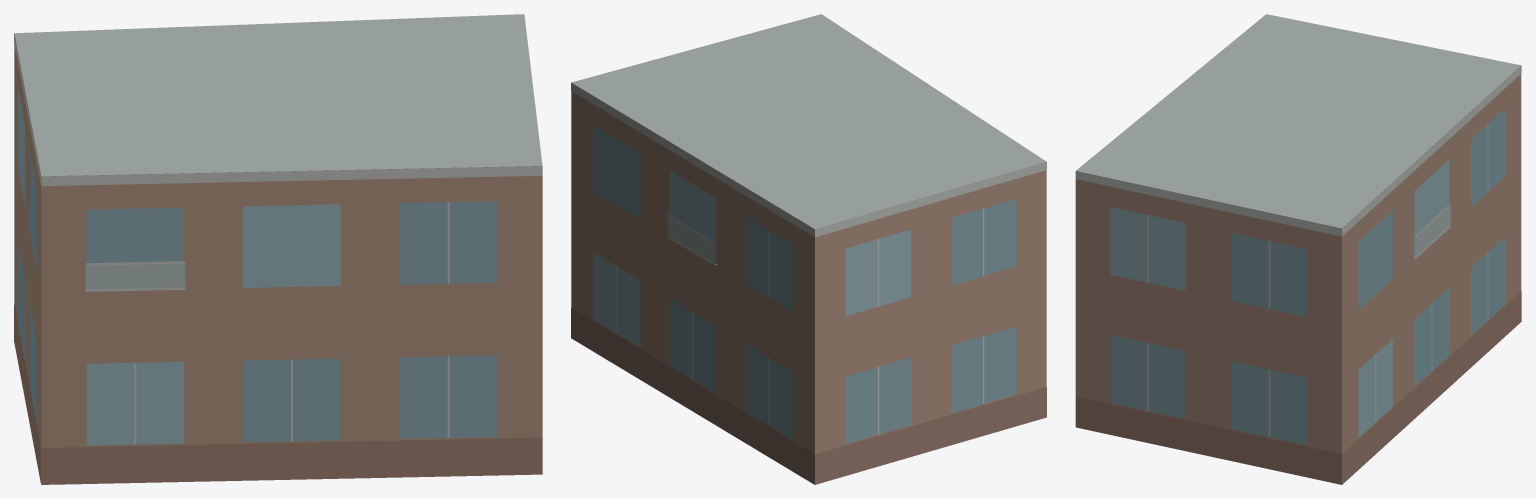
Rendered from survey-upis-32629931.glb.
The picture shows the model from 3 angles, left to right: view 1: azimuth 30°, elevation 25°; view 2: azimuth 150°, elevation 25°; view 3: azimuth 270°, elevation 25°; orthographic projection. The views are drawn at different scales.
Parts seen in each view (by area): view 1: survey-upis-32629931.tmp; view 2: survey-upis-32629931.tmp; view 3: survey-upis-32629931.tmp.
Boxes of the visible parts, x1,y1,x2,y2 form: survey-upis-32629931.tmp: [14, 14, 542, 484]; survey-upis-32629931.tmp: [571, 14, 1046, 484]; survey-upis-32629931.tmp: [1075, 14, 1521, 484].
Size of the model in its own units: 13.63 by 7.6 by 11.98.
